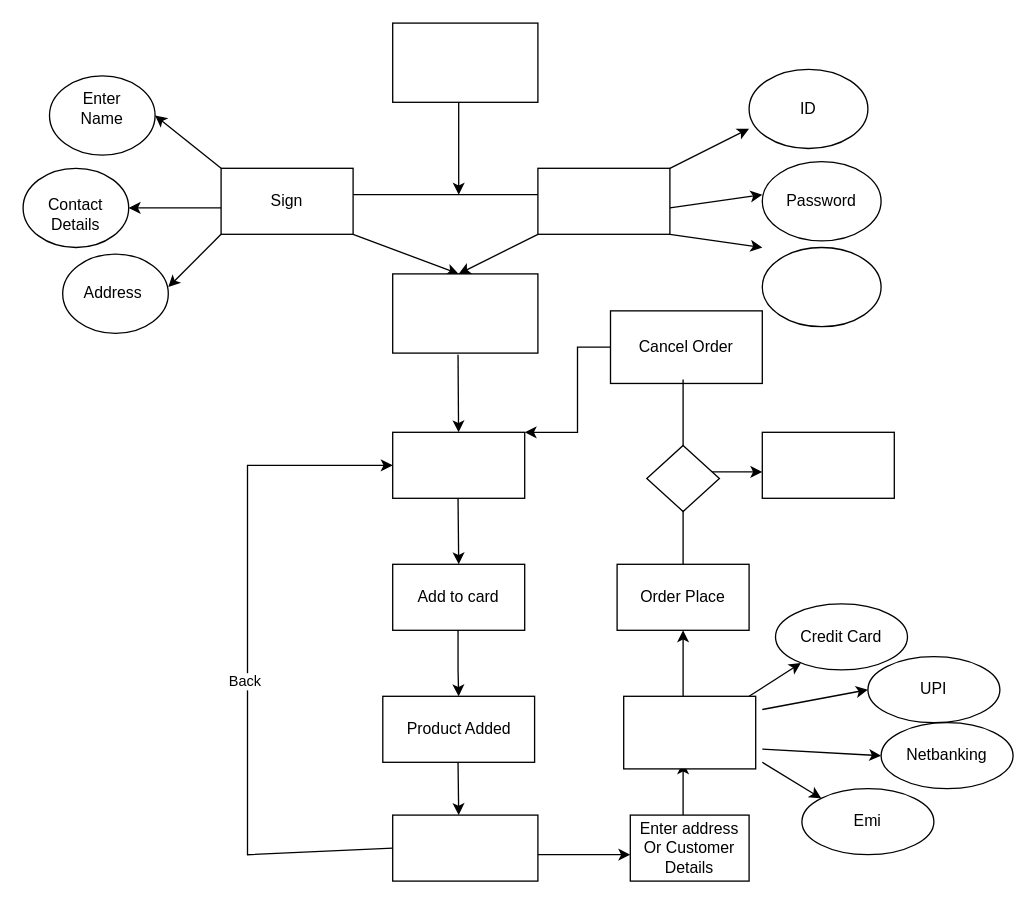
Image size: 1036x904. Some labels were removed from this diagram. The centre of each missing label's shape, as x and y in pixels:
Buy Item: the point at 464,847
Logged in: the point at 464,313
Login: the point at 603,200
Order Place Conform: the point at 827,464
Payment: the point at 689,732
Search/View: the point at 458,464
Update Details: the point at 821,286
User: the point at 464,62
